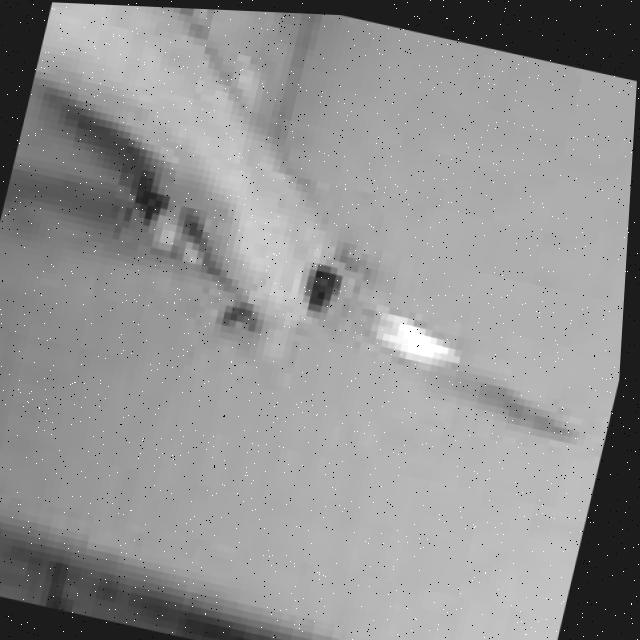knife: (284, 258, 613, 444)
